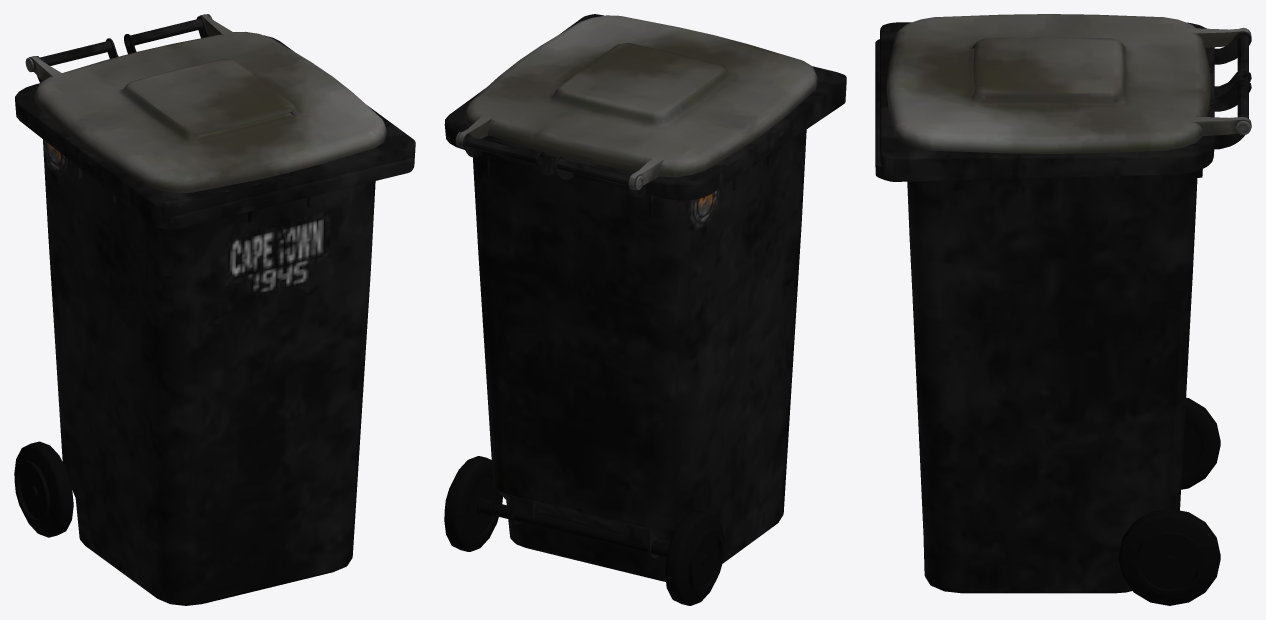
File: wheelie_bin.glb
3 renders of one model, left to right at view 1: azimuth 30°, elevation 25°; view 2: azimuth 150°, elevation 25°; view 3: azimuth 270°, elevation 25°, orthographic. The views are drawn at different scales.
Parts seen in each view (by area): view 1: Cylinder.004__0; view 2: Cylinder.004__0; view 3: Cylinder.004__0.
Boxes of the visible parts, x1=… form: Cylinder.004__0: x1=14, y1=14, x2=415, y2=605; Cylinder.004__0: x1=444, y1=14, x2=846, y2=605; Cylinder.004__0: x1=875, y1=14, x2=1251, y2=605.
Bounding box in the file's own units: 0.6646 × 1.1 × 0.7783.
Materials: 1 (1 with a texture image).
